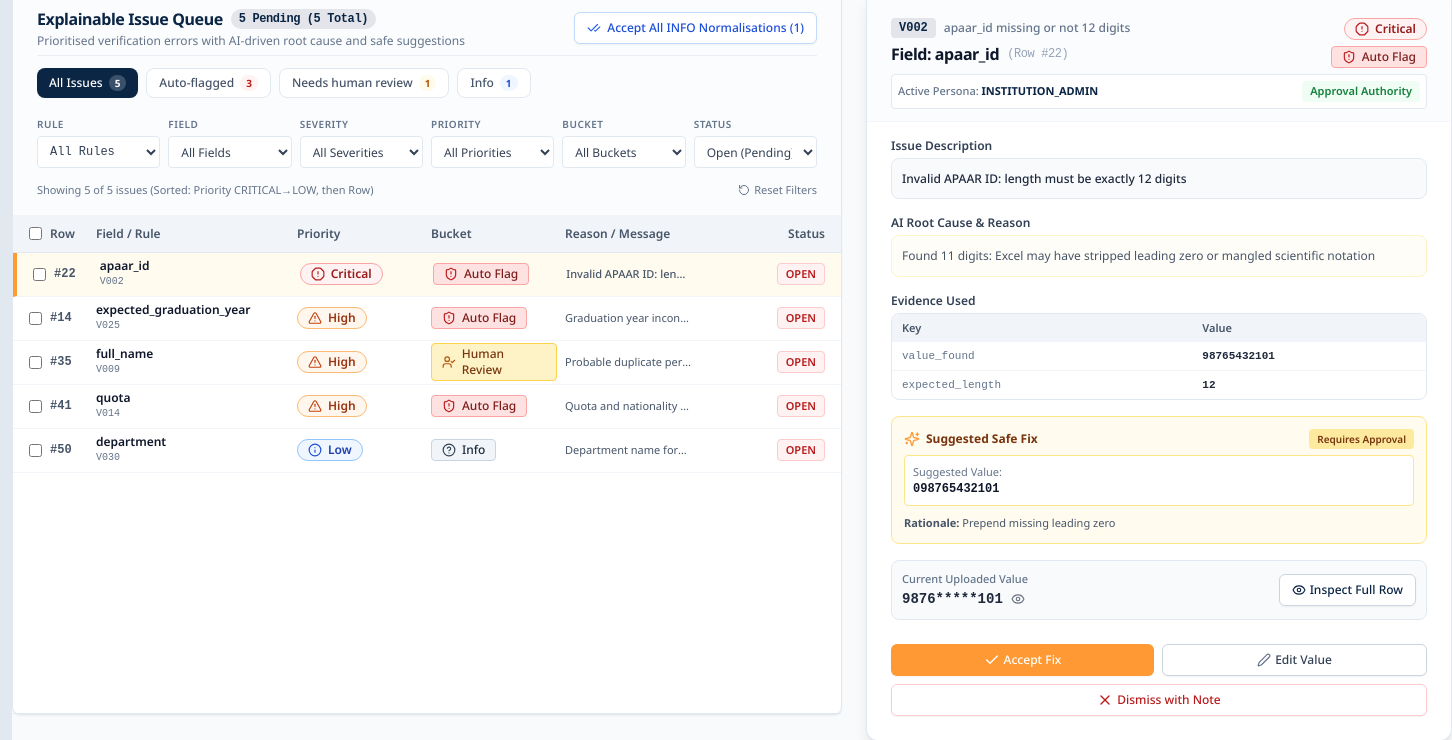
it: Review Workspace & Decision Flow (Task A3) › 2. Issue Card, Evidence Table, Deep Link & Decision Flow (Staff vs Admin) › Admin dismisses issue with custom reason note
The width and height of the screenshot is (1452, 740).
(page scrolled)
Click the button "Dismiss with Note" at {"x": 1159, "y": 700}, box [891,684,1427,716]
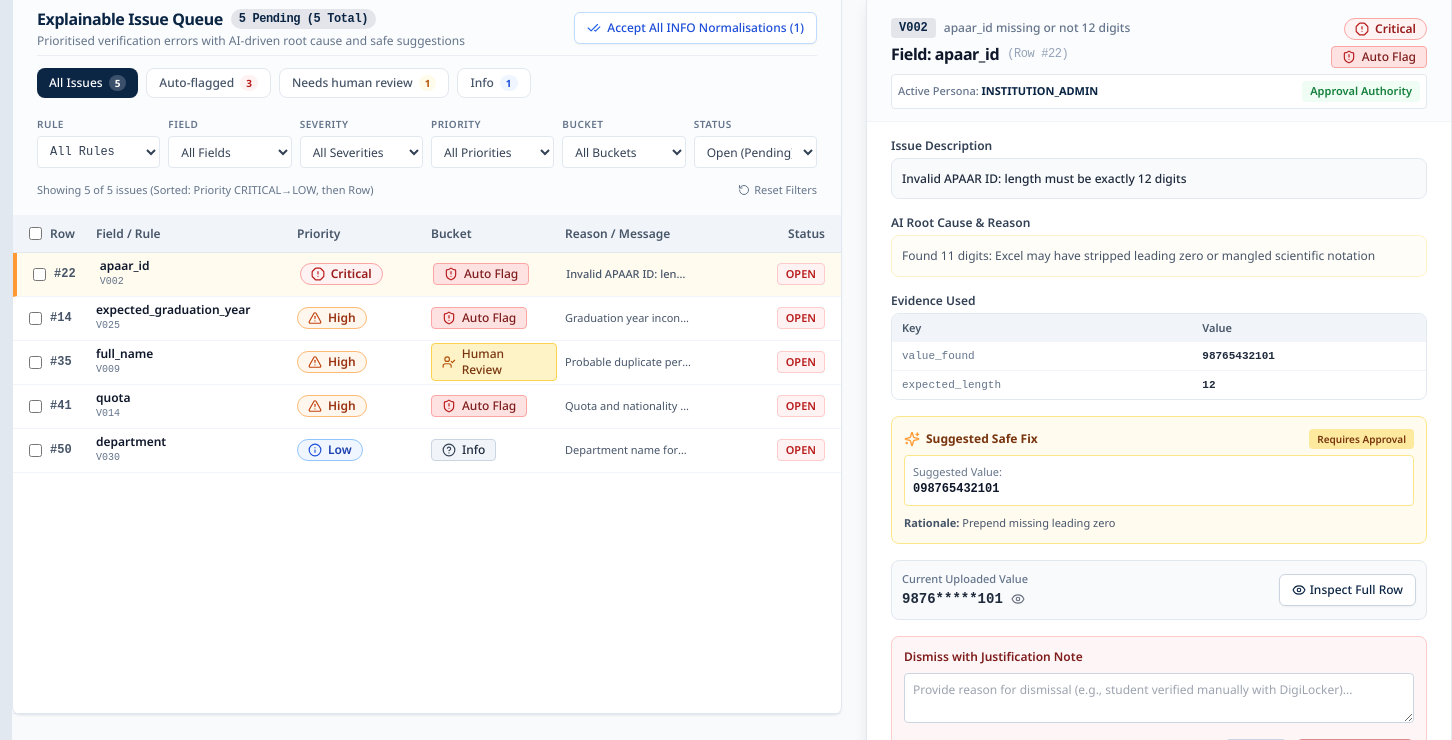
Replace the text in the text box with placeholder "Provide reason for dismissal" with "Verified physically with college registrar" at {"x": 1159, "y": 698}, box [904,673,1414,723]
(page scrolled)
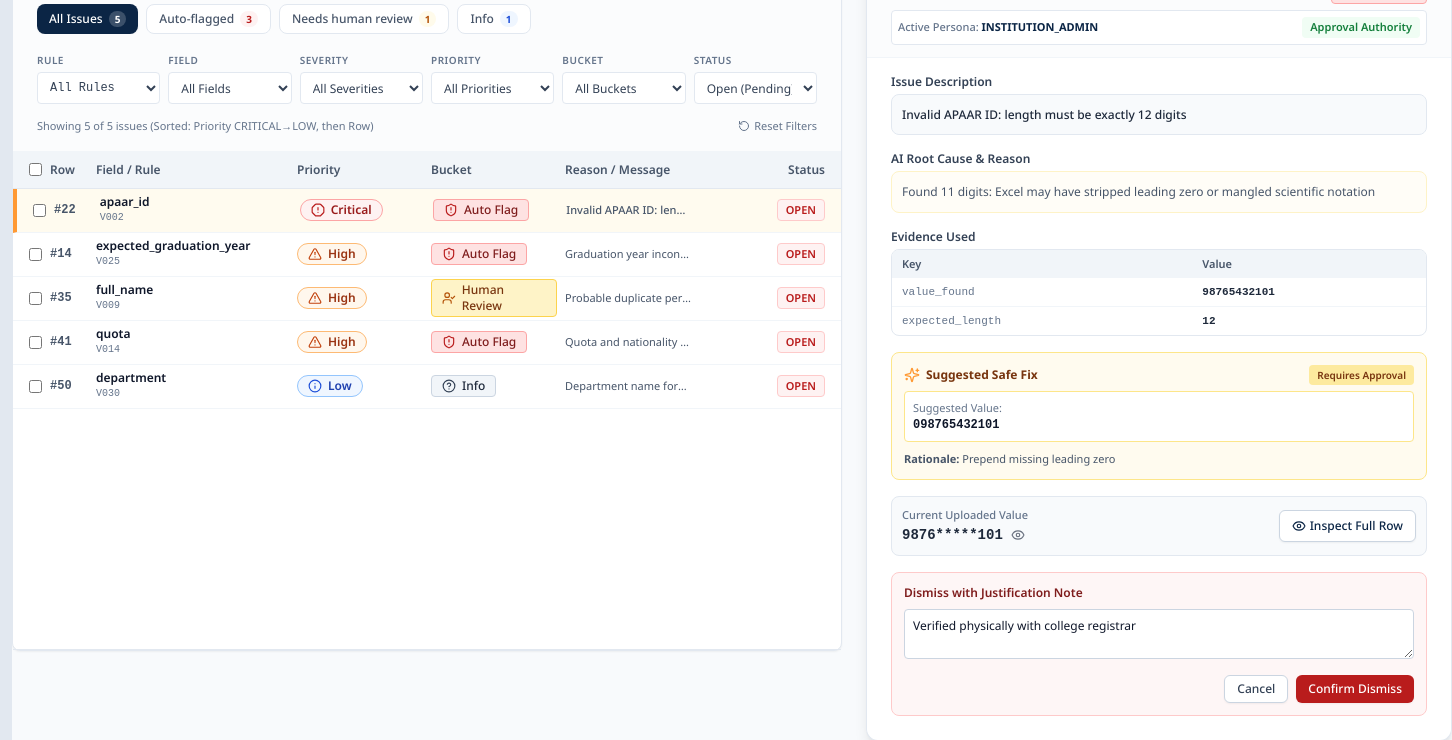
Click the button "Confirm Dismiss" at {"x": 1355, "y": 689}, box [1296,675,1414,703]
(page scrolled)
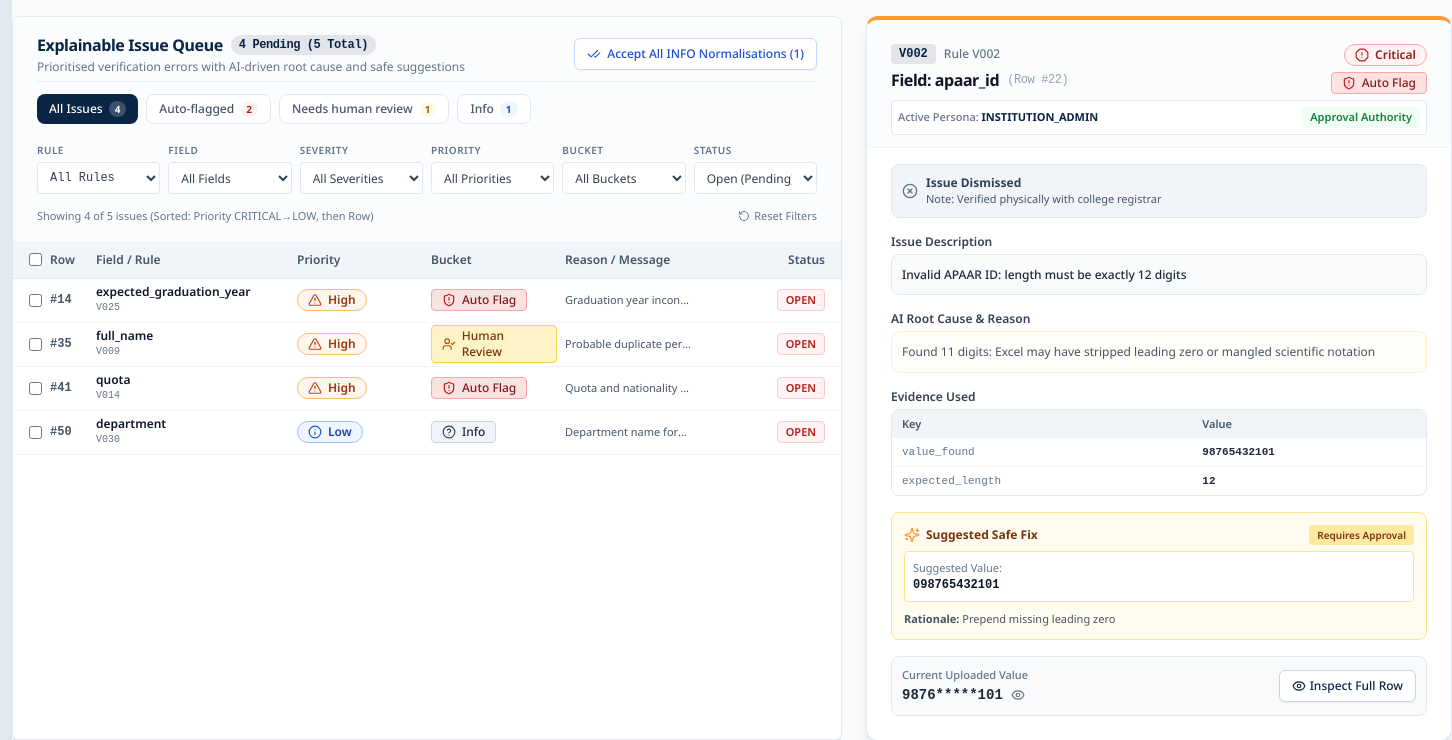
Expected: the text "Issue Dismissed" is shown, [926,174,1021,190]
Expected: the text "Note: Verified physically with college registrar" is shown, [926,190,1162,206]
